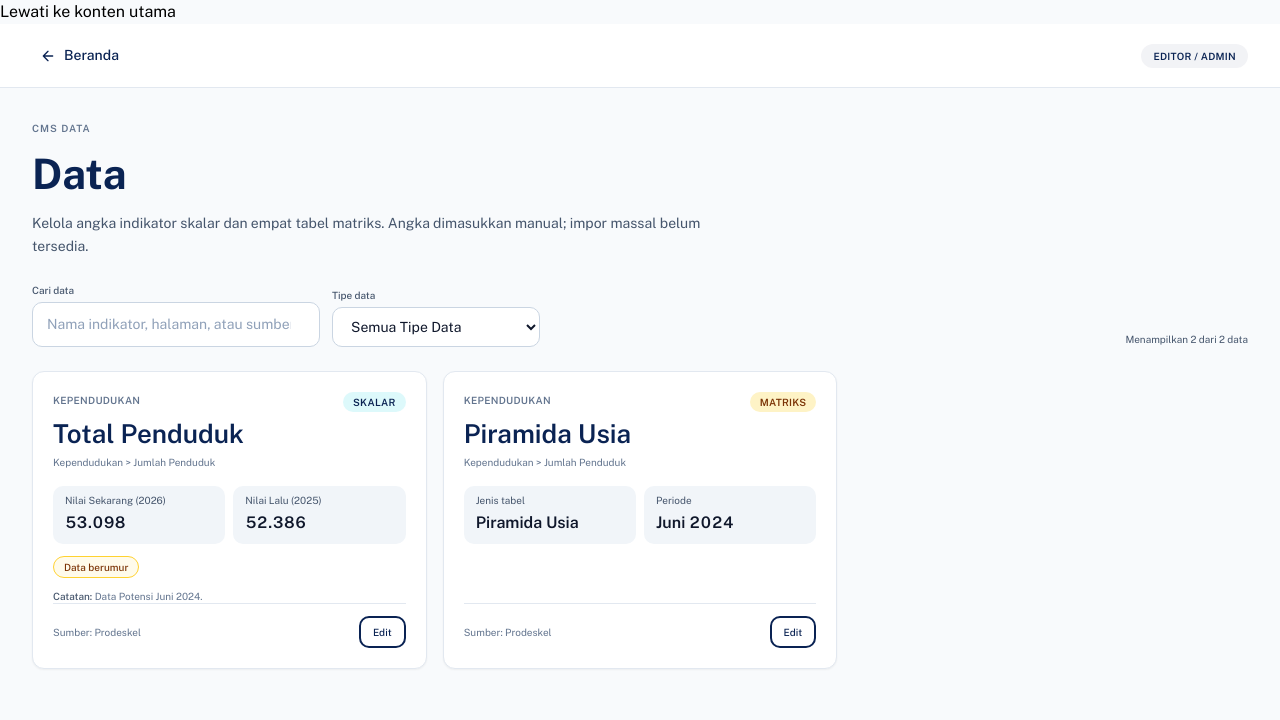
it: DataManagementView.vue › loads the table detail before opening the matrix dialog
The image size is (1280, 720).
Click the button "Edit" below "Jenis tabel" at (793, 632), box [770,616,816,648]
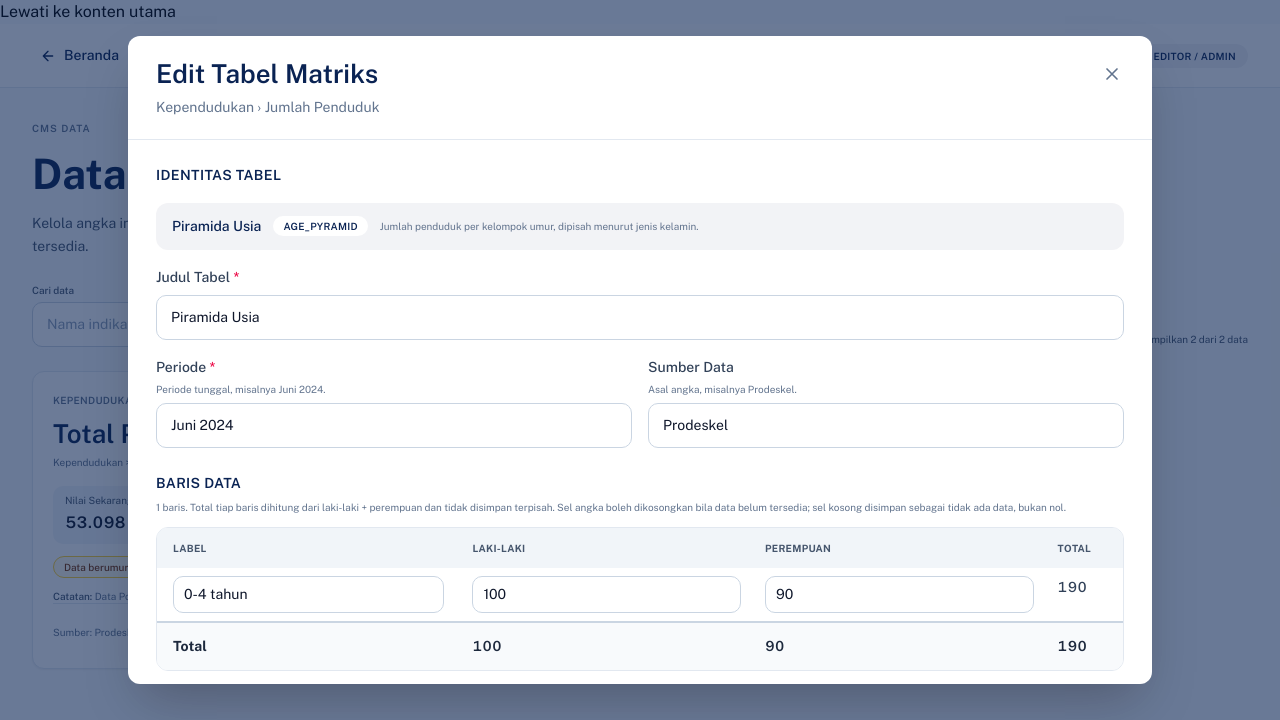
Check: the dialog shows "Edit Tabel Matriks", box [156,58,378,89]
Check: the field with id "table-row-row-1-male" is shown, box [472,576,741,612]
